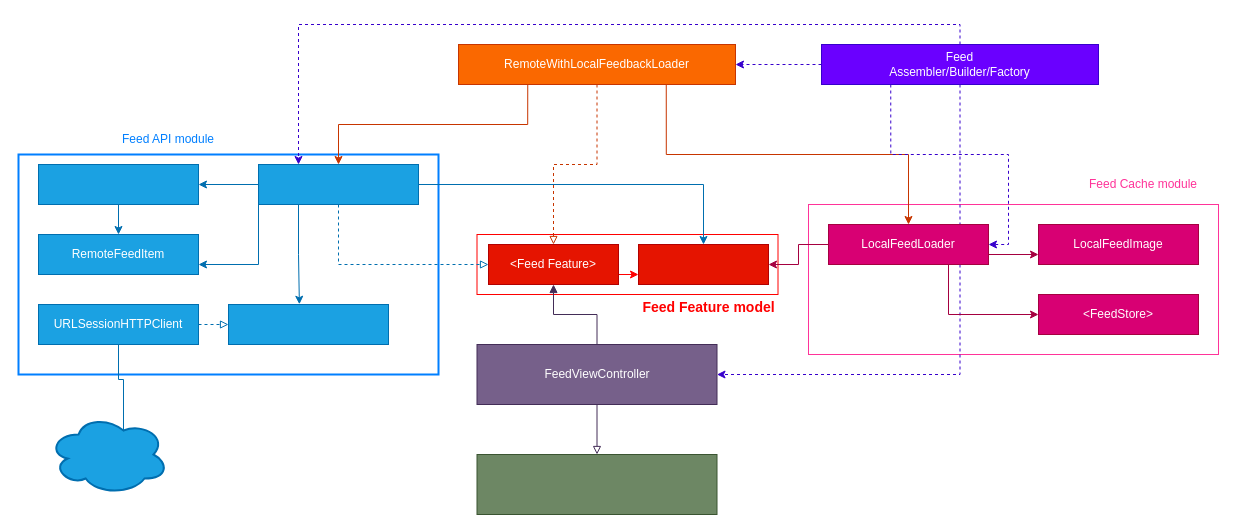
Image size: 1236x532. Some labels were removed from this diagram. The shapes that lost their labels are listed below. From the top down, each one's centre as x and y in pixels, then its label:
At point (118, 184): "FeedItemsMapper".
At point (338, 184): "Remote Feed Loader".
At point (703, 264): "FeedImage".
At point (308, 324): "<HTTPClient>".
At point (596, 484): "UIViewController".
